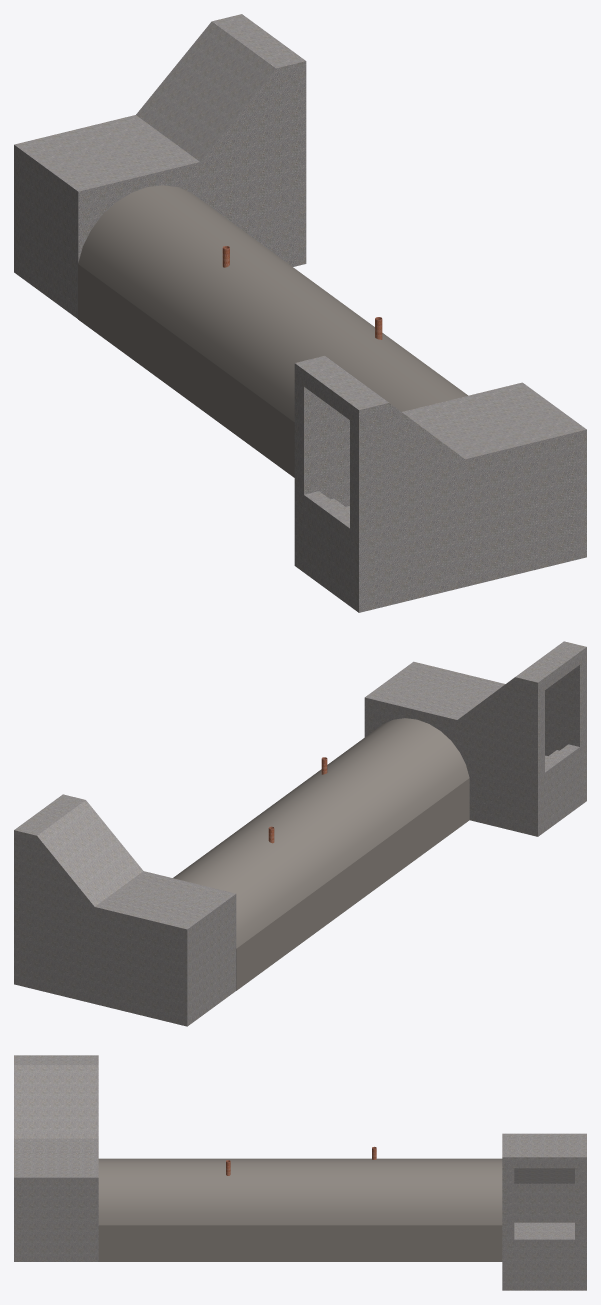
File: air-raid-bunker.lod0.glb
3 views of the same model, one above another, from view 1: azimuth 30°, elevation 25°; view 2: azimuth 150°, elevation 25°; view 3: azimuth 270°, elevation 25° (orthographic). The views are drawn at different scales.
Visible parts, largest first — view 1: Object_6, Object_2; view 2: Object_6, Object_2; view 3: Object_2, Object_6.
Boxes of the visible parts, box(x1,y1,x2,y2) form: Object_6: box(14, 14, 586, 612); Object_2: box(78, 185, 467, 477); Object_6: box(14, 641, 586, 1026); Object_2: box(173, 718, 469, 990); Object_2: box(98, 1158, 502, 1261); Object_6: box(14, 1055, 586, 1290).
Size of the model in its own units: 5.99 by 3.65 by 14.2.
Materials: 3 (2 with a texture image).
